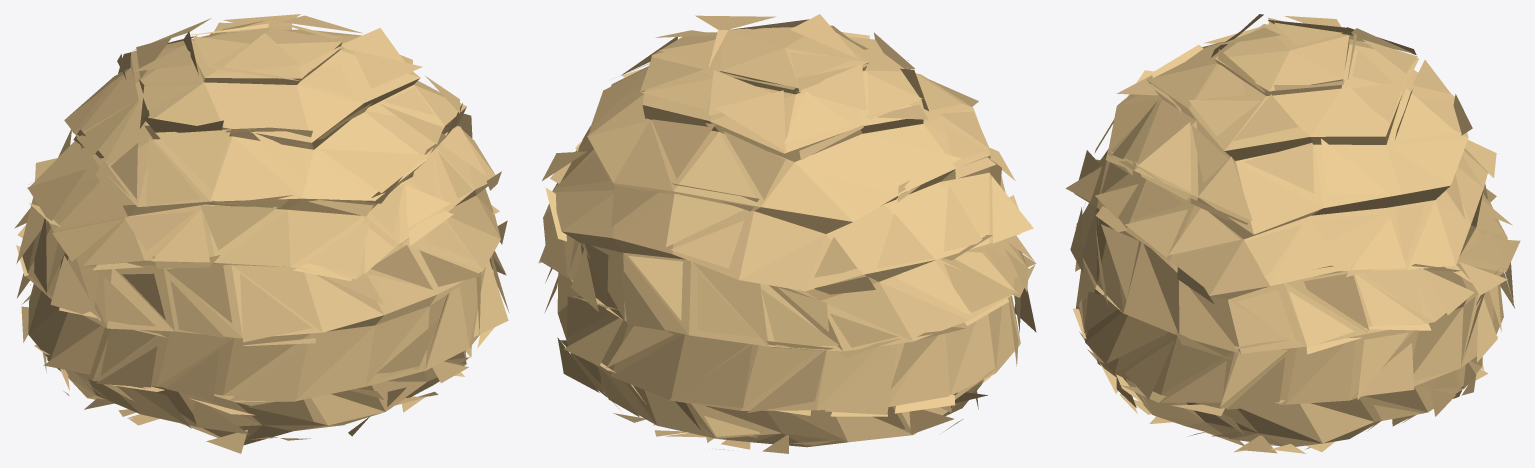
File: driedbushB.fbx
The picture shows the model from 3 angles, left to right: view 1: azimuth 30°, elevation 25°; view 2: azimuth 150°, elevation 25°; view 3: azimuth 270°, elevation 25°; orthographic projection. The views are drawn at different scales.
Visible parts, largest first — view 1: Icosphere.003, Icosphere.004; view 2: Icosphere.003, Icosphere.004; view 3: Icosphere.003, Icosphere.004.
Boxes of the visible parts, <box> form: Icosphere.003: <box>20,27,500,444</box>; Icosphere.004: <box>14,14,509,453</box>; Icosphere.003: <box>552,27,1028,447</box>; Icosphere.004: <box>538,14,1036,453</box>; Icosphere.003: <box>1074,24,1507,446</box>; Icosphere.004: <box>1065,14,1520,453</box>.
Bounding box in the file's own units: 241 × 188 × 218.
